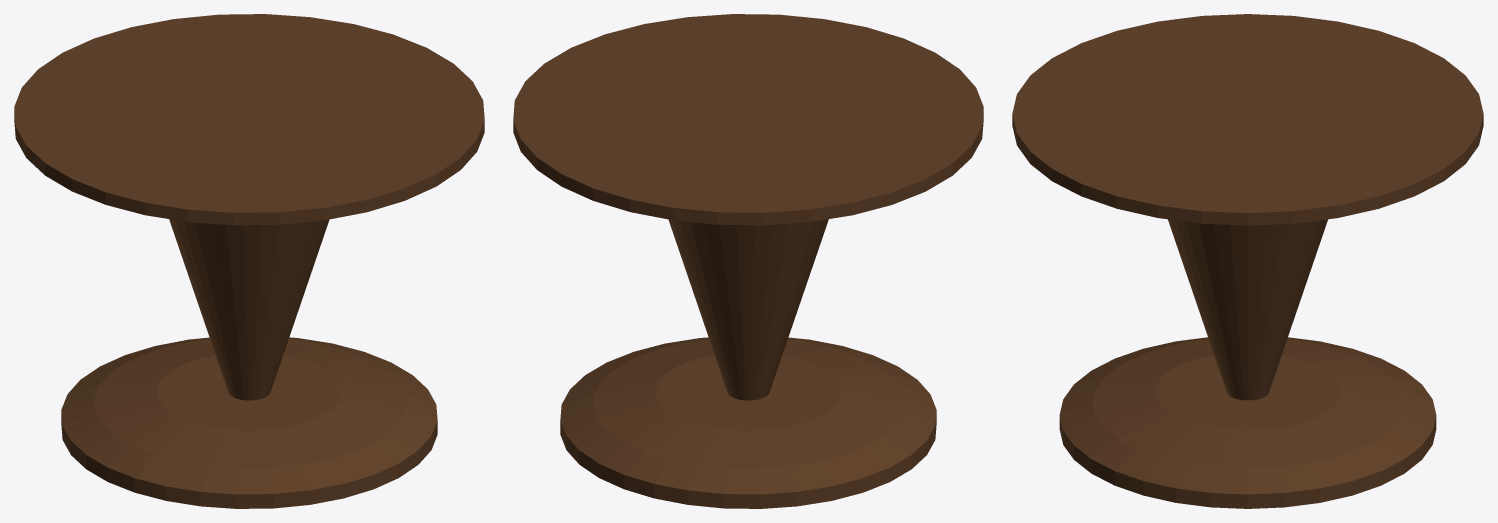
The model's file is CircularTable.fbx.
The picture shows the model from 3 angles, left to right: view 1: azimuth 30°, elevation 25°; view 2: azimuth 150°, elevation 25°; view 3: azimuth 270°, elevation 25°; orthographic projection.
Visible parts, largest first — view 1: Cylinder; view 2: Cylinder; view 3: Cylinder.
Boxes of the visible parts, left/top/right/bottom form: Cylinder: left=14, top=14, right=484, bottom=508; Cylinder: left=513, top=14, right=983, bottom=508; Cylinder: left=1012, top=14, right=1483, bottom=508.
Size of the model in its own units: 250 by 185 by 250.
